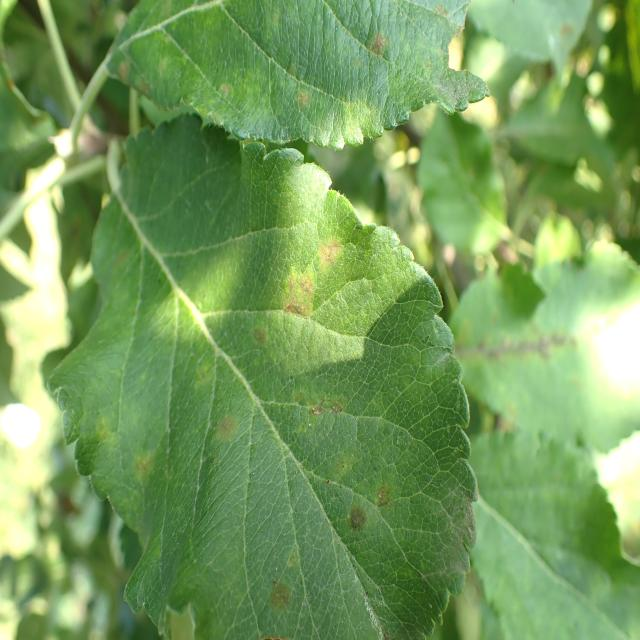scab: (79, 193, 438, 640), (100, 0, 517, 142)
